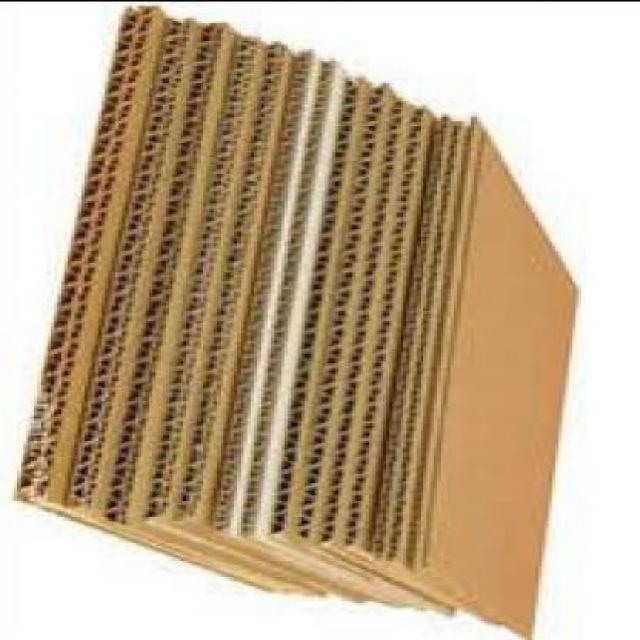CARDBOARD: (20, 2, 583, 638), (413, 110, 582, 638)
